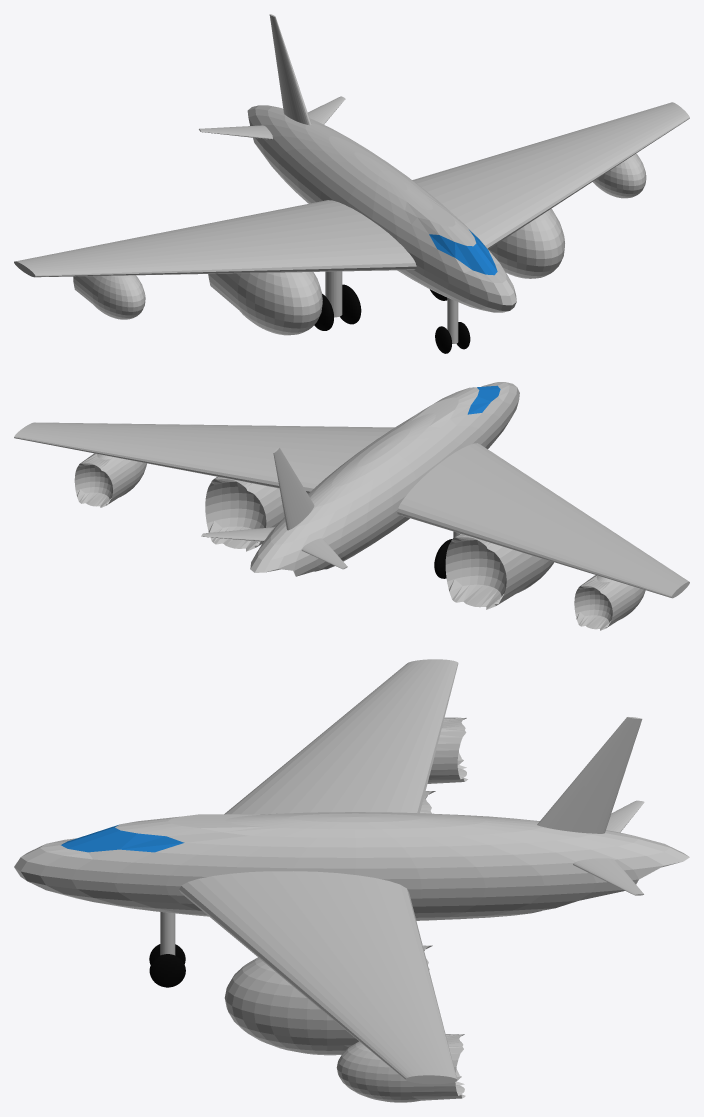
3 renders of one model, top to bottom at view 1: azimuth 30°, elevation 25°; view 2: azimuth 150°, elevation 25°; view 3: azimuth 270°, elevation 25°, orthographic. The views are drawn at different scales.
Visible parts, largest first — view 1: Sphere_Sphere.001, Cylinder, Cylinder.001_Cylinder.002, Sphere.002_Sphere.005, Sphere.001_Sphere.002, Sphere.004_Sphere.006, Cylinder.002_Cylinder.003, Sphere.003_Sphere.004, Cylinder.007_Cylinder.011, Cylinder.004_Cylinder.005, Sphere.009_Sphere.013; view 2: Sphere_Sphere.001, Cylinder, Cylinder.001_Cylinder.002, Sphere.002_Sphere.005, Sphere.001_Sphere.002, Sphere.003_Sphere.004, Sphere.004_Sphere.006, Cylinder.002_Cylinder.003, Cylinder.003_Cylinder.004, Cylinder.004_Cylinder.005, Sphere.009_Sphere.013; view 3: Sphere_Sphere.001, Cylinder.001_Cylinder.002, Cylinder, Sphere.001_Sphere.002, Cylinder.002_Cylinder.003, Sphere.003_Sphere.004, Sphere.004_Sphere.006, Cylinder.003_Cylinder.004, Sphere.005_Sphere.007, Cylinder.005_Cylinder.008.
Boxes of the visible parts, bbox=[...] form: Sphere_Sphere.001: bbox=[247, 105, 516, 312]; Cylinder: bbox=[14, 200, 416, 277]; Cylinder.001_Cylinder.002: bbox=[412, 102, 689, 249]; Sphere.002_Sphere.005: bbox=[208, 272, 322, 335]; Sphere.001_Sphere.002: bbox=[488, 208, 564, 278]; Sphere.004_Sphere.006: bbox=[73, 275, 145, 319]; Cylinder.002_Cylinder.003: bbox=[269, 14, 311, 125]; Sphere.003_Sphere.004: bbox=[593, 153, 646, 198]; Cylinder.007_Cylinder.011: bbox=[325, 271, 342, 317]; Cylinder.004_Cylinder.005: bbox=[199, 125, 272, 139]; Sphere.009_Sphere.013: bbox=[340, 284, 361, 324]; Sphere_Sphere.001: bbox=[250, 382, 519, 576]; Cylinder: bbox=[397, 443, 689, 598]; Cylinder.001_Cylinder.002: bbox=[14, 422, 394, 493]; Sphere.002_Sphere.005: bbox=[445, 533, 553, 609]; Sphere.001_Sphere.002: bbox=[205, 477, 284, 551]; Sphere.003_Sphere.004: bbox=[74, 453, 146, 507]; Sphere.004_Sphere.006: bbox=[574, 575, 645, 630]; Cylinder.002_Cylinder.003: bbox=[273, 447, 314, 530]; Cylinder.003_Cylinder.004: bbox=[201, 527, 275, 541]; Cylinder.004_Cylinder.005: bbox=[301, 538, 347, 569]; Sphere.009_Sphere.013: bbox=[434, 539, 451, 578]; Sphere_Sphere.001: bbox=[14, 812, 689, 920]; Cylinder.001_Cylinder.002: bbox=[179, 871, 457, 1084]; Cylinder: bbox=[224, 659, 458, 814]; Sphere.001_Sphere.002: bbox=[224, 945, 432, 1055]; Cylinder.002_Cylinder.003: bbox=[537, 717, 642, 833]; Sphere.003_Sphere.004: bbox=[336, 1034, 465, 1102]; Sphere.004_Sphere.006: bbox=[427, 717, 467, 783]; Cylinder.003_Cylinder.004: bbox=[573, 858, 643, 895]; Sphere.005_Sphere.007: bbox=[149, 954, 185, 987]; Cylinder.005_Cylinder.008: bbox=[160, 912, 175, 955].
Size of the model in its own units: 31.61 by 9.45 by 21.71.
